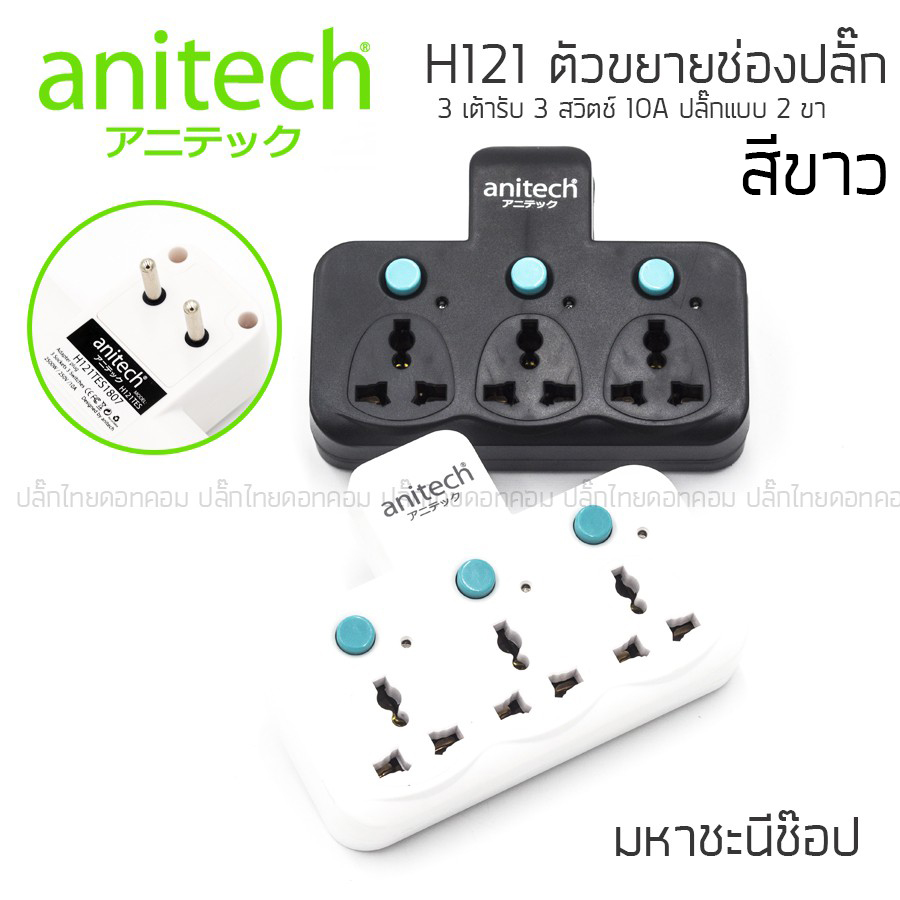Three_eye_plug: (250, 424, 772, 864), (301, 141, 765, 478), (33, 228, 268, 453)
